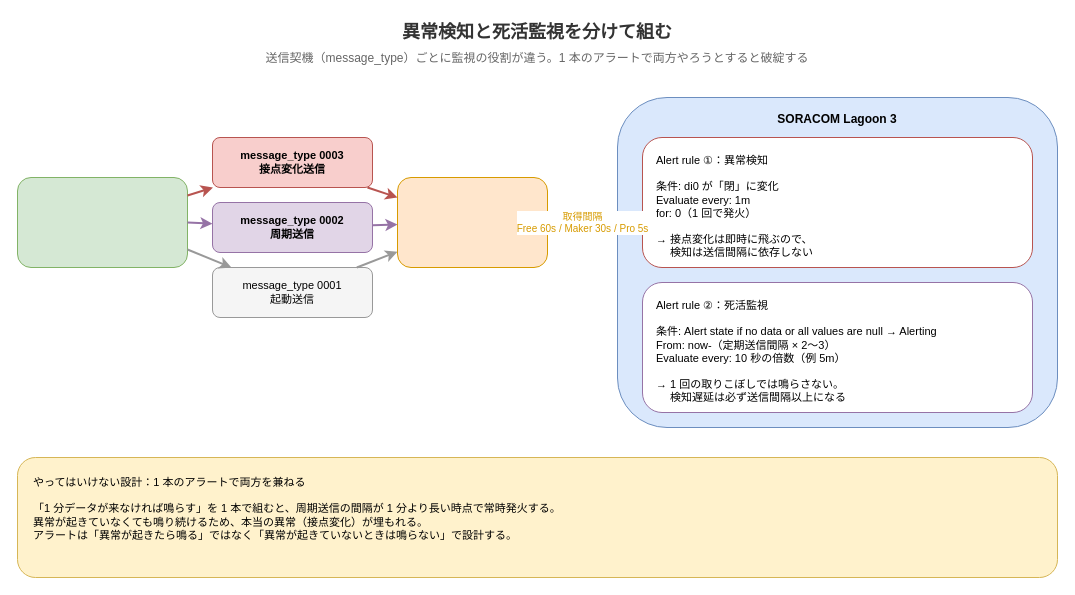
The diagram is 1075 pixels wide and 595 high, and some of its shapes have lost their labels. Here are the shapes that lost their labels. From the top down, the centre of each, then its label:
At pixel 102 222: "SmartFitPRO （LTE Cat.M1 / plan-D）".
At pixel 472 222: "SORACOM Harvest Data".
